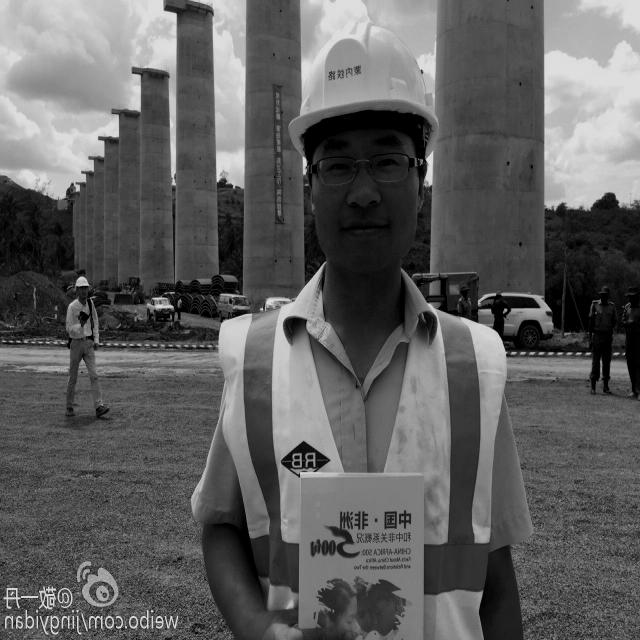face_nomask: (300, 124, 416, 253)
glasses: (310, 148, 414, 194)
head_helmet: (287, 13, 439, 144), (74, 276, 91, 288)
head_nohelmet: (458, 276, 476, 297), (625, 280, 640, 304), (599, 281, 615, 301), (494, 286, 504, 303)
person: (178, 0, 535, 623), (58, 272, 105, 422), (586, 285, 618, 394), (622, 284, 640, 400), (491, 291, 508, 334), (454, 283, 474, 317), (174, 293, 184, 318)
shoes: (63, 401, 80, 421), (94, 403, 110, 420)
vest: (237, 308, 500, 640)
